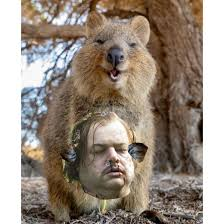quokka: (37, 11, 166, 221)
